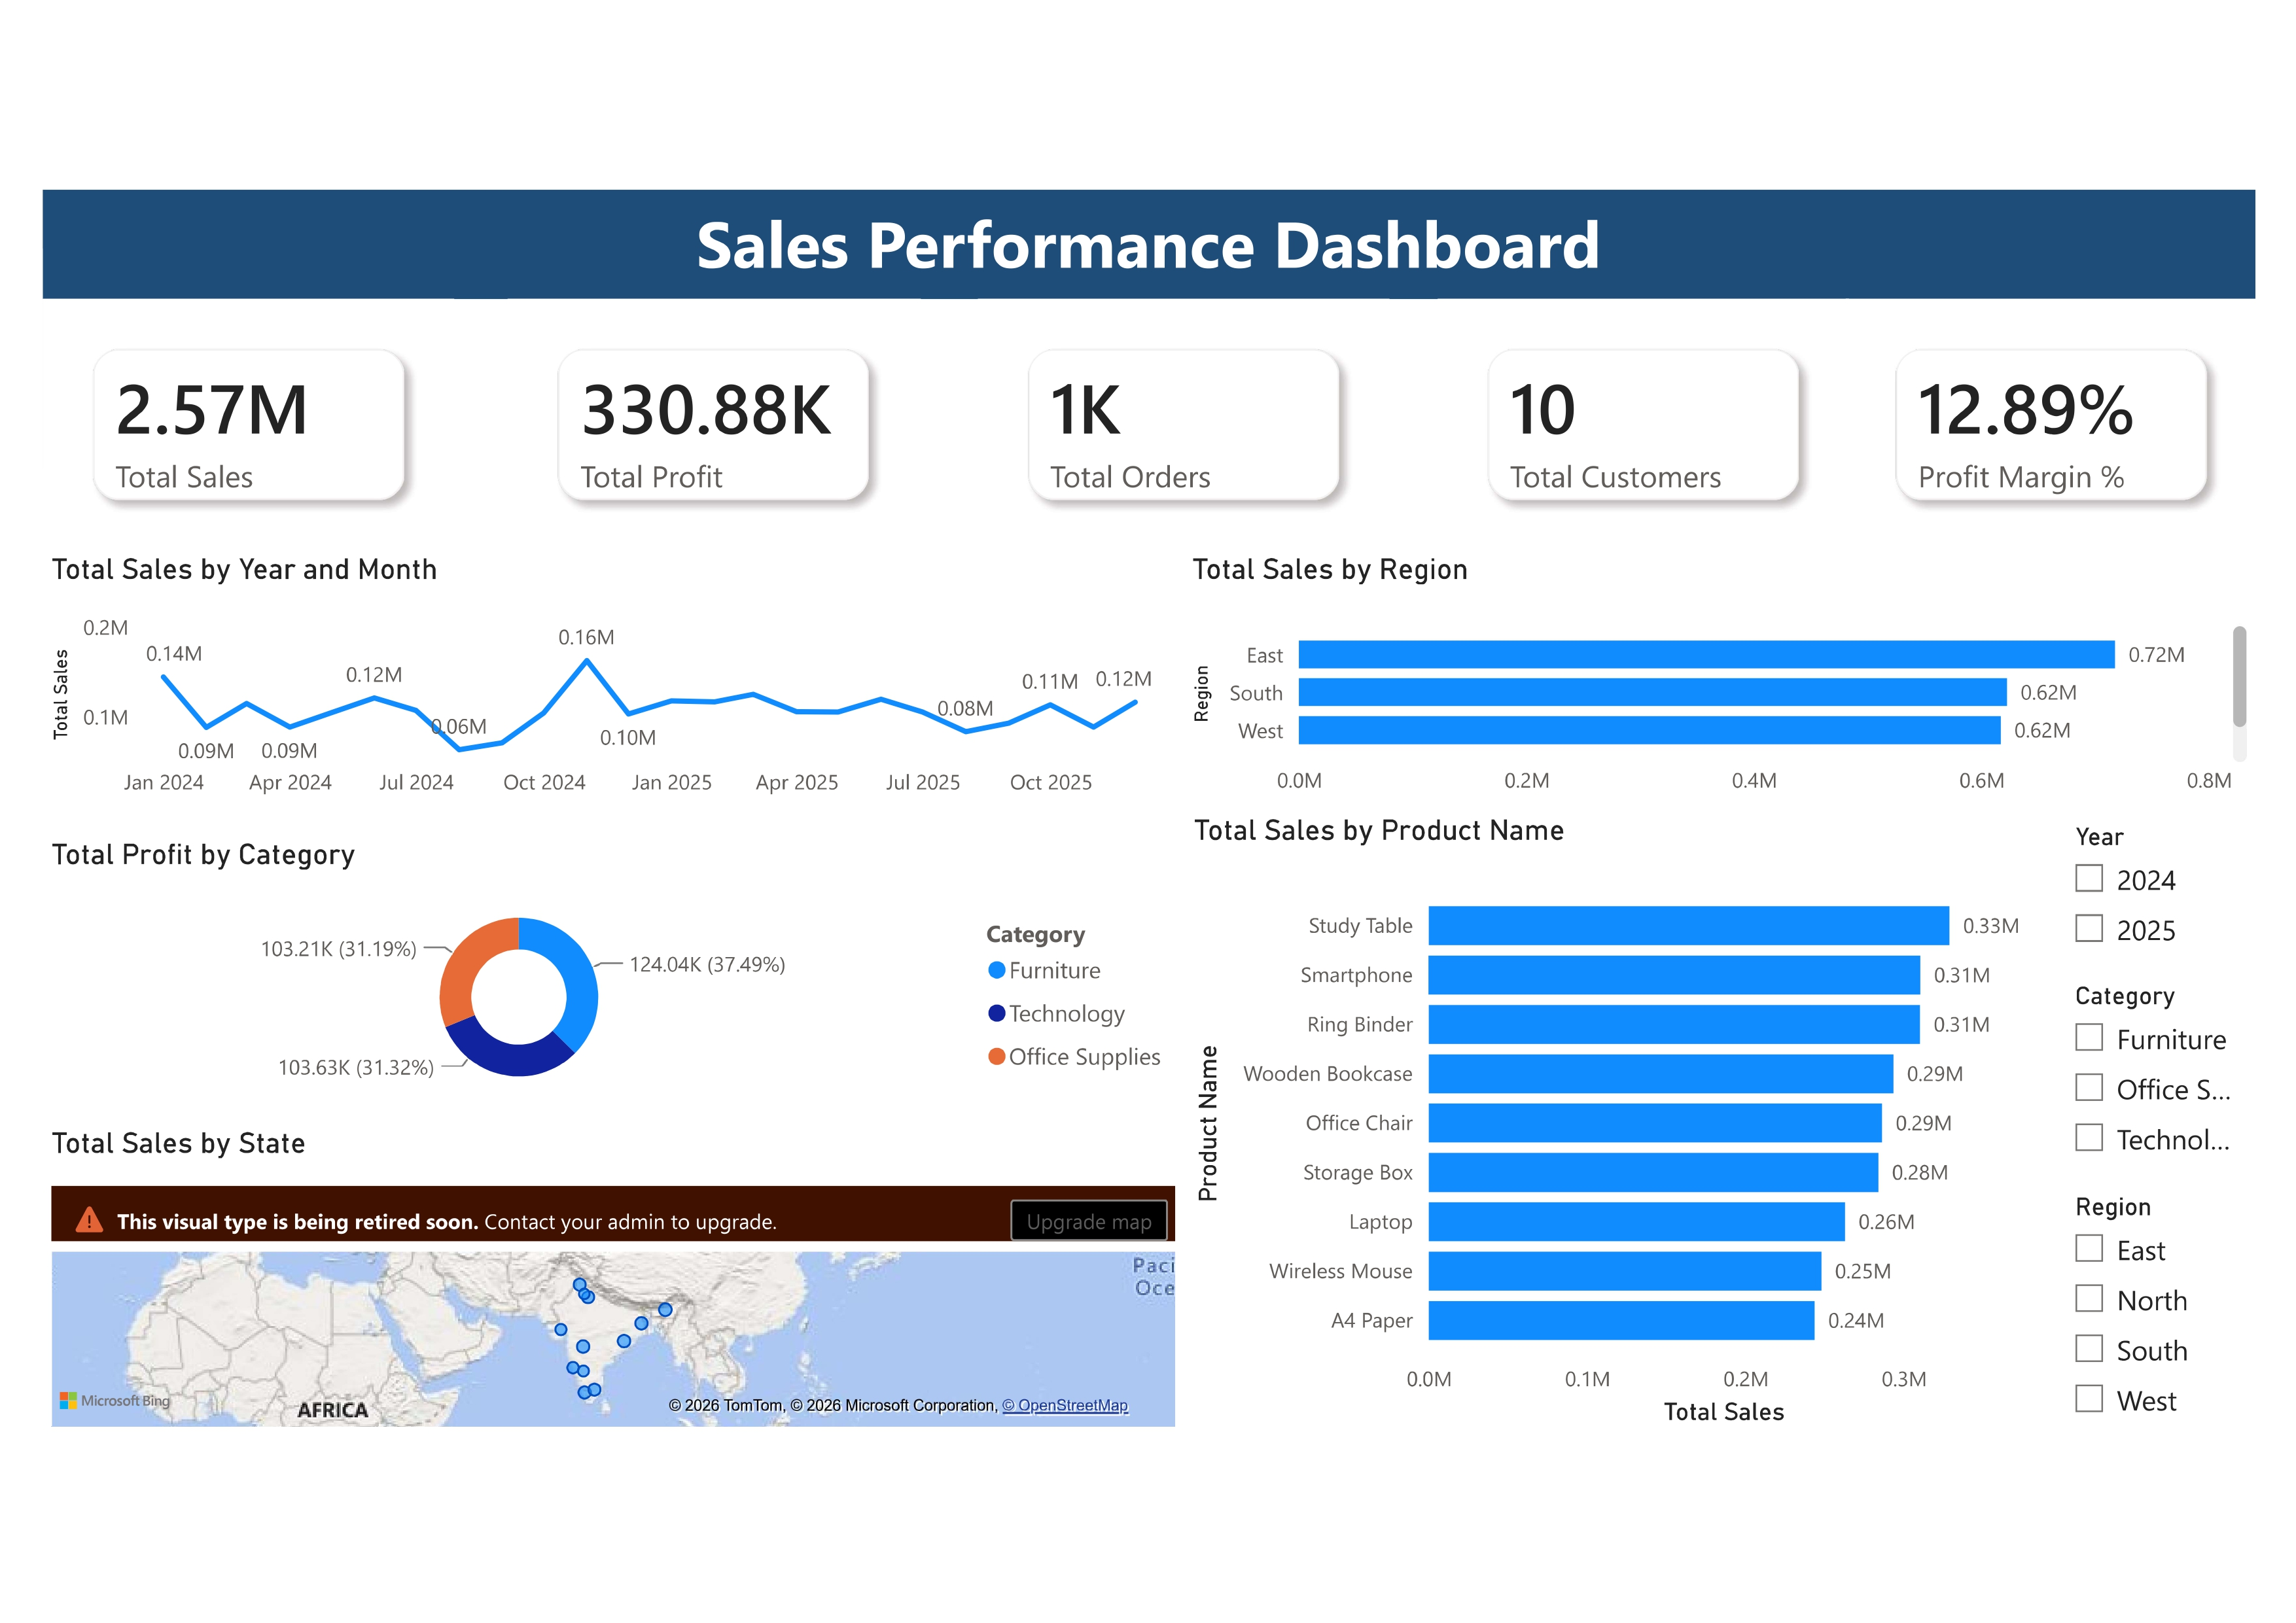

What the dashboard file says about the page in this screenshot:
{"tool":"powerbi","page":{"name":"Executive Dashboard","canvas":[1280,720],"ordinal":0},"visuals":[{"type":"textbox","box":[0,0,1280.3,63.1],"z":0},{"type":"cardVisual","fields":{"Data":["Orders.Total Sales"]},"box":[0,63.1,238,145],"z":1000},{"type":"cardVisual","fields":{"Data":["Orders.Total Profit"]},"box":[269,63.1,238.8,145.5],"z":2000},{"type":"cardVisual","fields":{"Data":["Orders.Total Orders"]},"box":[540.7,63.1,238,145],"z":3000},{"type":"cardVisual","fields":{"Data":["Orders.Total Customers"]},"box":[806.9,63.1,238,145],"z":4000},{"type":"lineChart","fields":{"Category":["Calendar.Date.Variation.Date Hierarchy.Year","Calendar.Date.Variation.Date Hierarchy.Month"],"Y":["Orders.Total Sales"]},"box":[0,209,660.5,151.8],"z":5000},{"type":"clusteredBarChart","fields":{"Category":["Orders.Region"],"Y":["Orders.Total Sales"]},"box":[660,208.6,620.2,150.9],"z":6000},{"type":"donutChart","fields":{"Category":["Orders.Category"],"Y":["Orders.Total Profit"]},"box":[0,374.4,660.5,155.5],"z":7000},{"type":"clusteredBarChart","fields":{"Category":["Orders.Product Name"],"Y":["Orders.Total Sales"]},"box":[660.5,359.5,502.6,360.7],"z":8000},{"type":"cardVisual","fields":{"Data":["Orders.Profit Margin %"]},"box":[1042.9,63.1,238,145.5],"z":9000},{"type":"map","fields":{"Category":["Orders.State"],"Size":["Orders.Total Sales"]},"box":[0,540.7,660,179.8],"z":10000},{"type":"slicer","fields":{"Values":["Calendar.Year"]},"box":[1163.1,360.7,116.9,92.1],"z":11000},{"type":"slicer","fields":{"Values":["Orders.Region"]},"box":[1163.1,574.7,116.9,145.5],"z":12000},{"type":"slicer","fields":{"Values":["Orders.Category"]},"box":[1163.1,452.8,116.9,121.9],"z":13000}]}

Visuals, with their boxes on the page's 1280x720 design canvas (x1, y1, x2, y2). These are canvas units, not pixel positions in the 2296x1623 screenshot, which may show the page scaled, cropped or inside an application window:
textbox: rect(0, 0, 1280, 63)
cardVisual - Orders.Total Sales: rect(0, 63, 238, 208)
cardVisual - Orders.Total Profit: rect(269, 63, 508, 209)
cardVisual - Orders.Total Orders: rect(541, 63, 779, 208)
cardVisual - Orders.Total Customers: rect(807, 63, 1045, 208)
lineChart - Calendar.Date.Variation.Date Hierarchy.Year x Calendar.Date.Variation.Date Hierarchy.Month: rect(0, 209, 660, 361)
clusteredBarChart - Orders.Region x Orders.Total Sales: rect(660, 209, 1280, 360)
donutChart - Orders.Category x Orders.Total Profit: rect(0, 374, 660, 530)
clusteredBarChart - Orders.Product Name x Orders.Total Sales: rect(660, 360, 1163, 720)
cardVisual - Orders.Profit Margin %: rect(1043, 63, 1281, 209)
map - Orders.State x Orders.Total Sales: rect(0, 541, 660, 720)
slicer - Calendar.Year: rect(1163, 361, 1280, 453)
slicer - Orders.Region: rect(1163, 575, 1280, 720)
slicer - Orders.Category: rect(1163, 453, 1280, 575)
